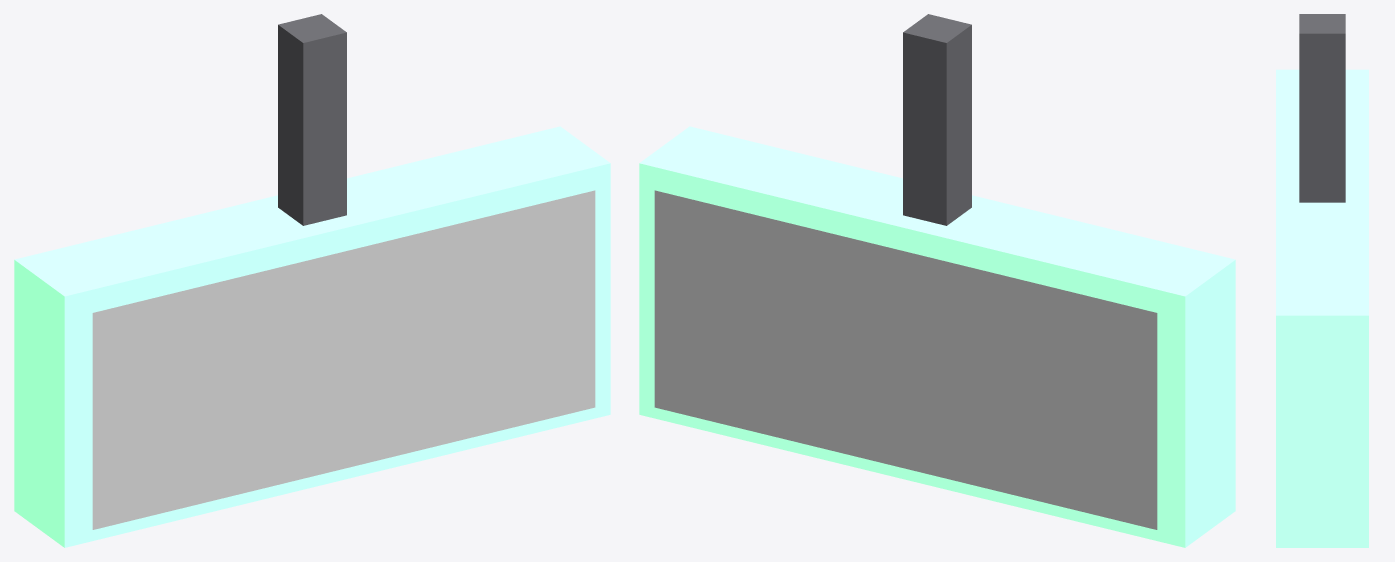
The model's file is exit_sign_wrong.glb.
The picture shows the model from 3 angles, left to right: view 1: azimuth 30°, elevation 25°; view 2: azimuth 150°, elevation 25°; view 3: azimuth 270°, elevation 25°; orthographic projection. The views are drawn at different scales.
Parts seen in each view (by area): view 1: Exit_sign; view 2: Exit_sign; view 3: Exit_sign.
Part boxes in pixels (left/top/right/bottom): Exit_sign: left=14, top=14, right=610, bottom=547; Exit_sign: left=639, top=14, right=1235, bottom=547; Exit_sign: left=1276, top=14, right=1368, bottom=547.
Size of the model in its own units: 0.5 by 0.38 by 0.1.
